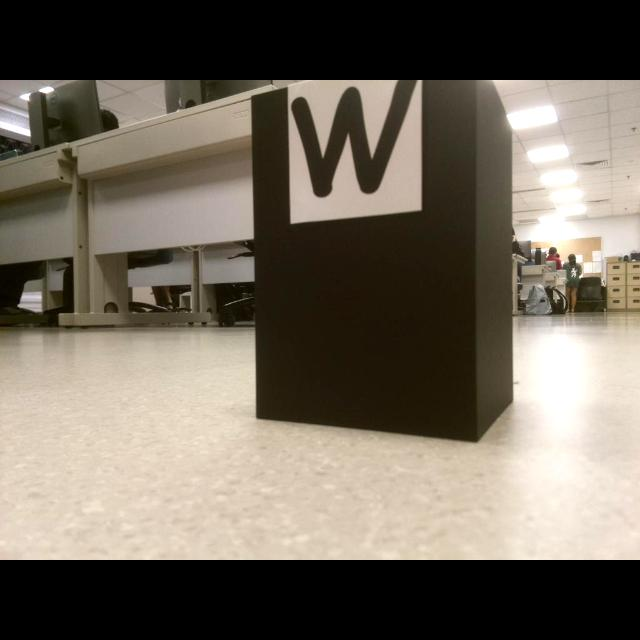W: (290, 80, 419, 199)
